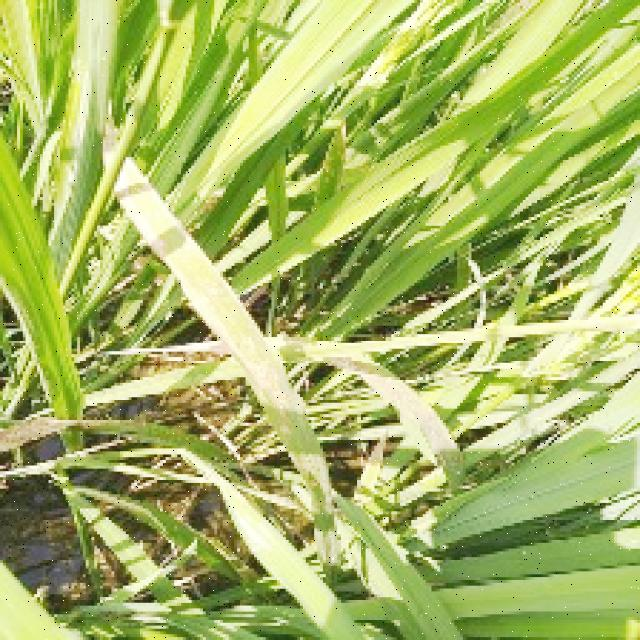health: (11, 0, 630, 298)
